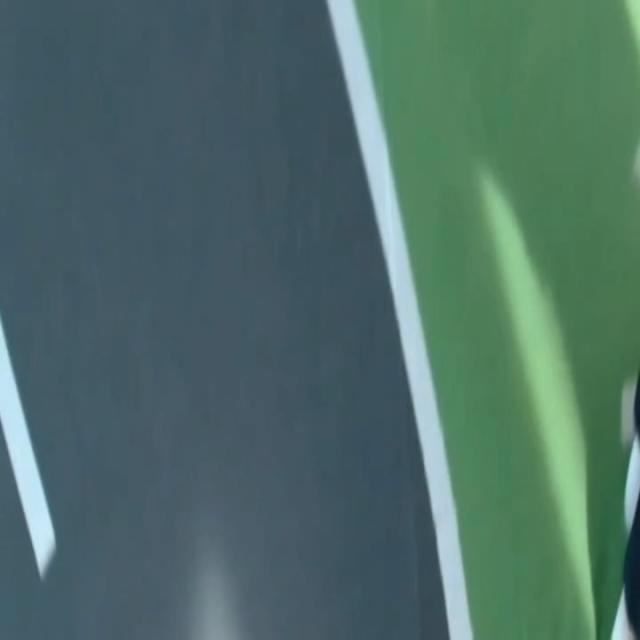center: (0, 316, 55, 577)
right: (327, 0, 472, 639)
